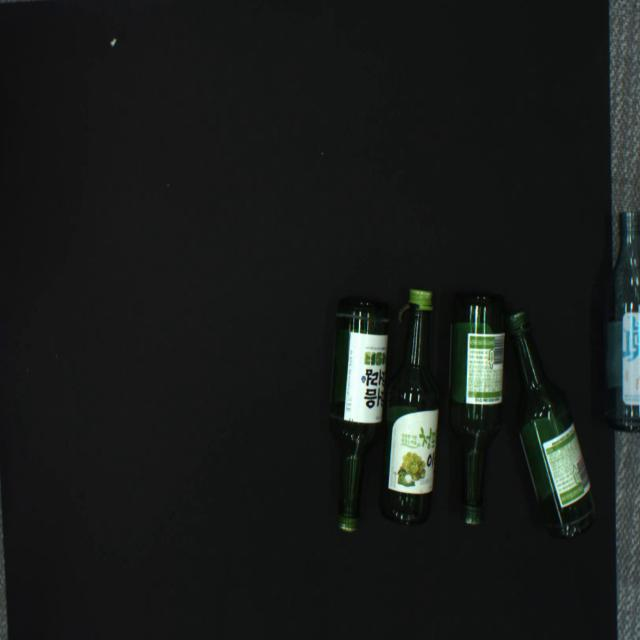soju-bottle: (507, 311, 595, 538), (377, 289, 440, 525), (328, 297, 390, 532), (448, 293, 506, 526), (603, 212, 640, 432)
